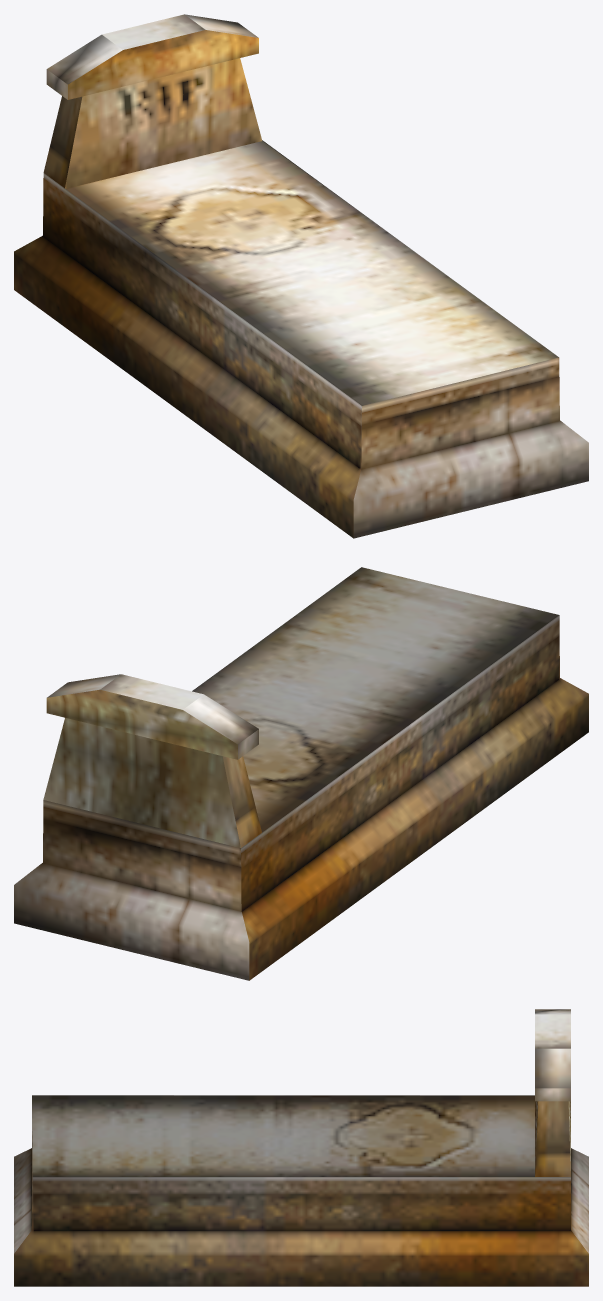
The model's file is USA - Prop - Tombs - PATTomb.glb.
3 renders of one model, top to bottom at view 1: azimuth 30°, elevation 25°; view 2: azimuth 150°, elevation 25°; view 3: azimuth 270°, elevation 25°, orthographic. The views are drawn at different scales.
Visible parts, largest first — view 1: PATTOMB; view 2: PATTOMB; view 3: PATTOMB.
Part boxes in pixels (x1,y1,x2,y2): PATTOMB: [14, 14, 588, 538]; PATTOMB: [14, 567, 588, 980]; PATTOMB: [14, 1009, 588, 1286].
Size of the model in its own units: 6.4 by 6.35 by 16.
Materials: 1 (1 with a texture image).
